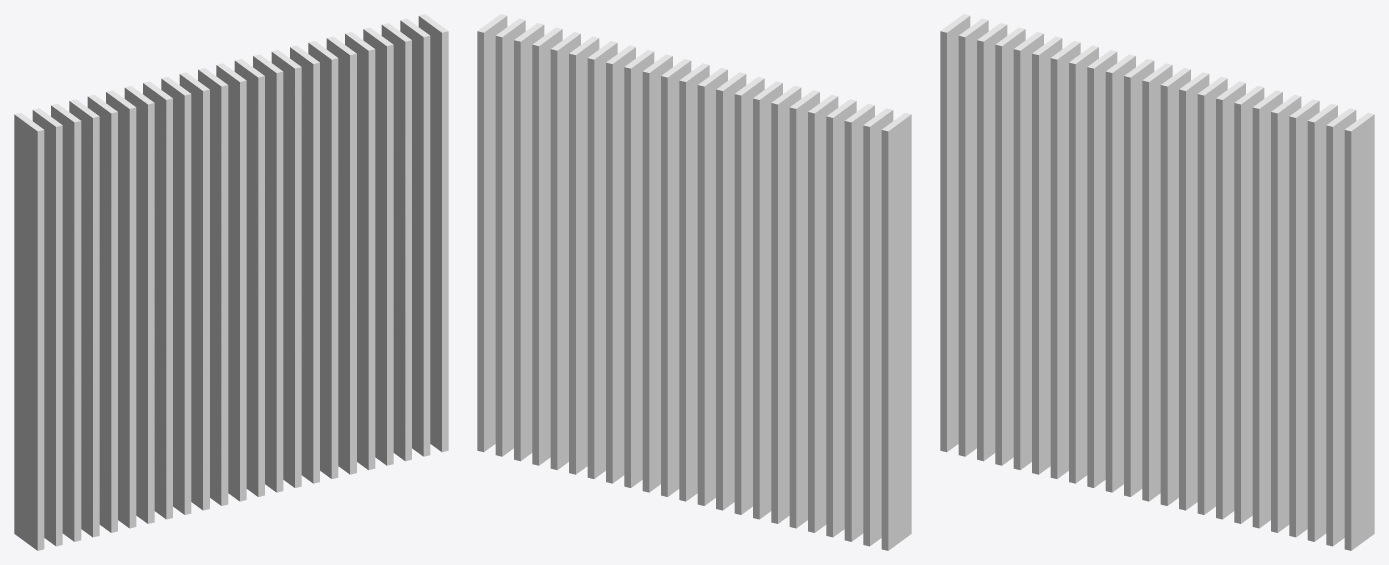
Rendered from cnlounge_wall.fbx.
3 renders of one model, left to right at view 1: azimuth 30°, elevation 25°; view 2: azimuth 150°, elevation 25°; view 3: azimuth 330°, elevation 25°, orthographic.
Visible parts, largest first — view 1: cnlounge_wall; view 2: cnlounge_wall; view 3: cnlounge_wall.
Part boxes in pixels (x1,y1,x2,y2): cnlounge_wall: [14, 14, 448, 550]; cnlounge_wall: [477, 14, 911, 550]; cnlounge_wall: [940, 14, 1374, 550].
Bounding box in the file's own units: 0.0268 × 0.0262 × 0.00265.
1 material, 1 textured.
